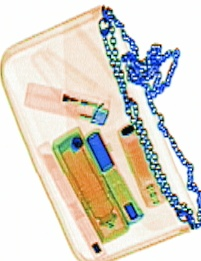lighter: (21, 81, 111, 126)
